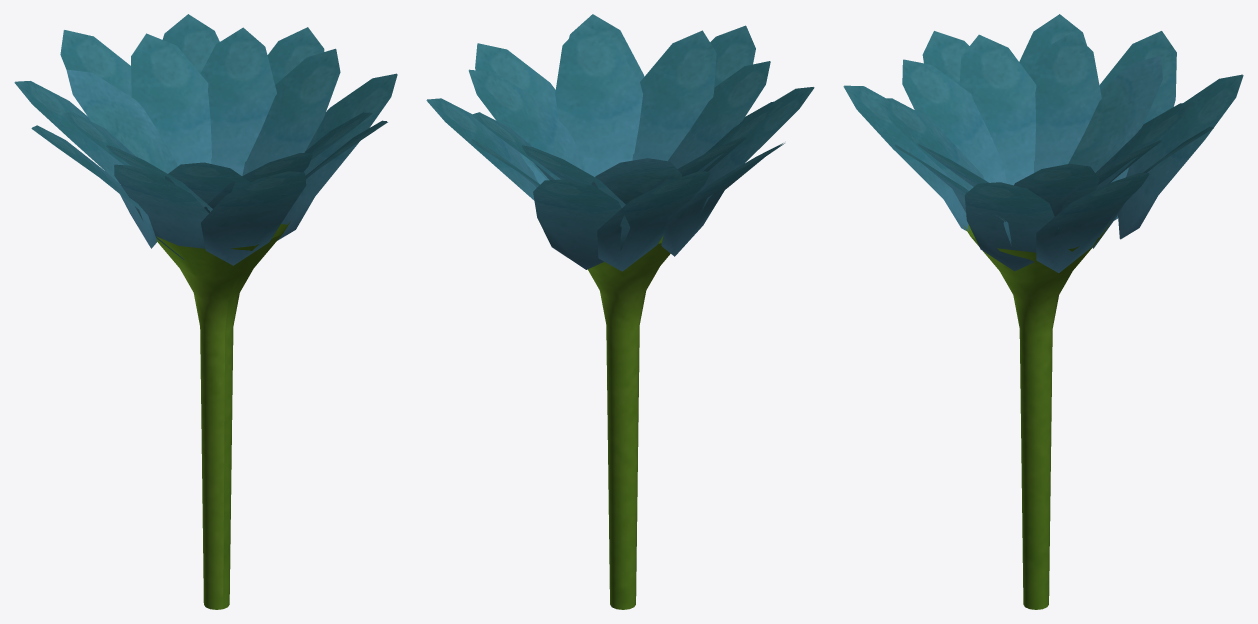
File: Flower1.fbx
3 renders of one model, left to right at view 1: azimuth 30°, elevation 25°; view 2: azimuth 150°, elevation 25°; view 3: azimuth 270°, elevation 25°, orthographic.
Parts seen in each view (by area): view 1: Flower1; view 2: Flower1; view 3: Flower1.
Part boxes in pixels (x1,y1,x2,y2): Flower1: (14,14,397,609); Flower1: (426,14,814,609); Flower1: (843,14,1243,609).
Bounding box in the file's own units: 2.3 × 3.33 × 2.38.
